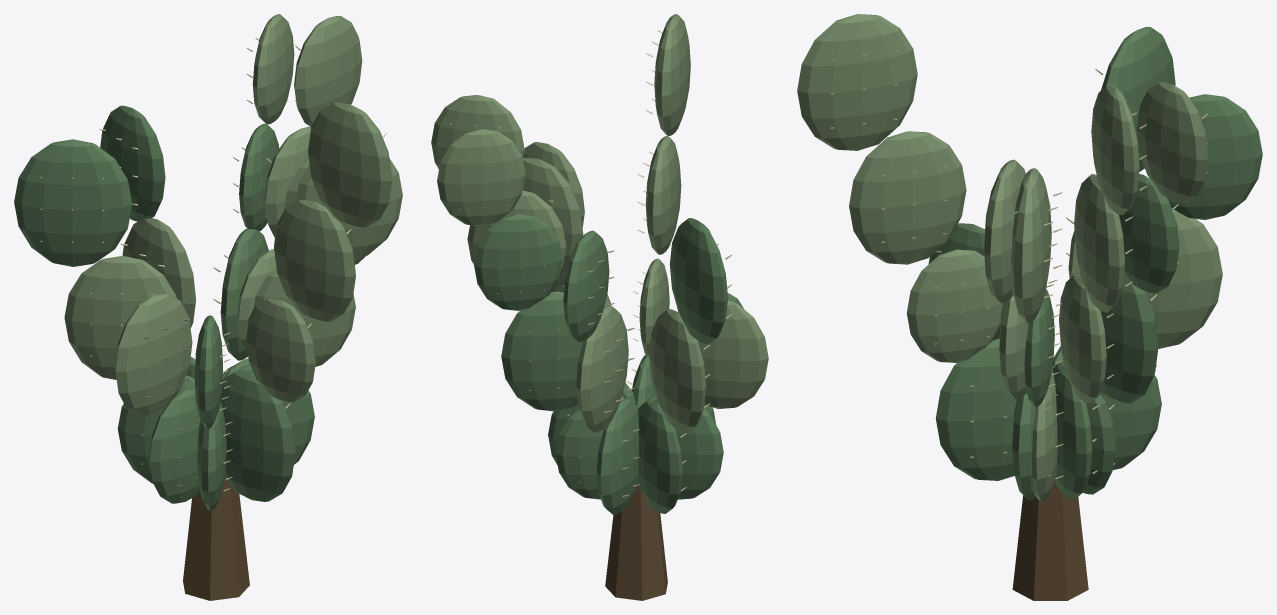
The model's file is cactus_large.glb.
3 views of the same model, side by side, from view 1: azimuth 30°, elevation 25°; view 2: azimuth 150°, elevation 25°; view 3: azimuth 270°, elevation 25° (orthographic). The views are drawn at different scales.
Visible parts, largest first — view 1: cactus_large; view 2: cactus_large; view 3: cactus_large.
Boxes of the visible parts, x1,y1,x2,y2 form: cactus_large: [14, 14, 402, 600]; cactus_large: [431, 14, 768, 600]; cactus_large: [797, 14, 1262, 600].
Bounding box in the file's own units: 1.27 × 1.95 × 1.38.
